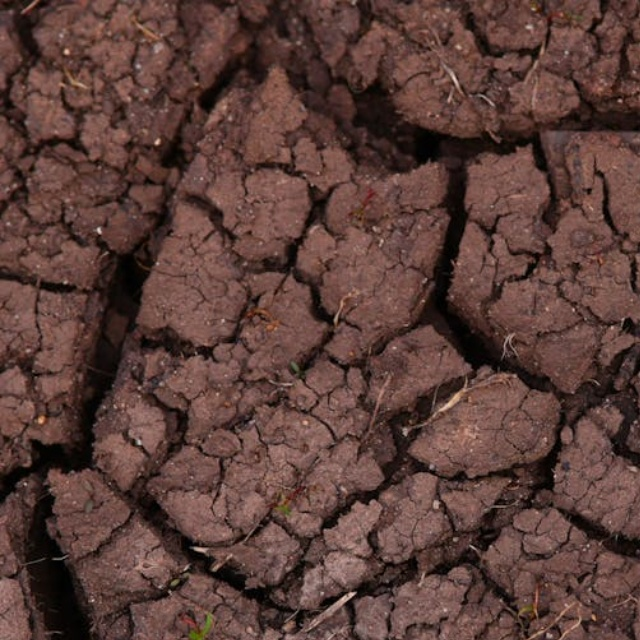网状裂隙: (197, 0, 637, 500), (287, 60, 640, 640), (383, 0, 640, 521), (209, 17, 443, 481), (352, 0, 544, 546), (460, 0, 640, 442), (14, 408, 140, 640)
